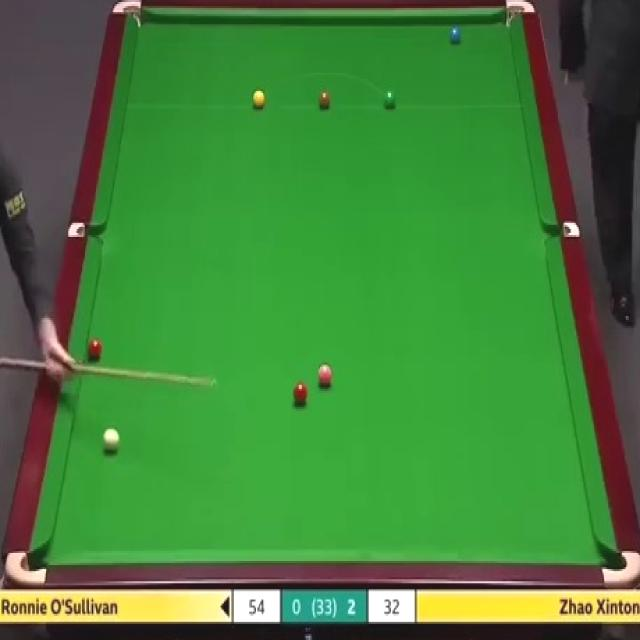blue-ball: (448, 25, 462, 45)
brown-ball: (318, 91, 331, 108)
green-ball: (383, 87, 397, 111)
pink-ball: (316, 363, 334, 386)
red-ball: (87, 337, 103, 361), (292, 381, 308, 404)
white-ball: (101, 425, 120, 453)
yellow-ball: (251, 88, 266, 109)
